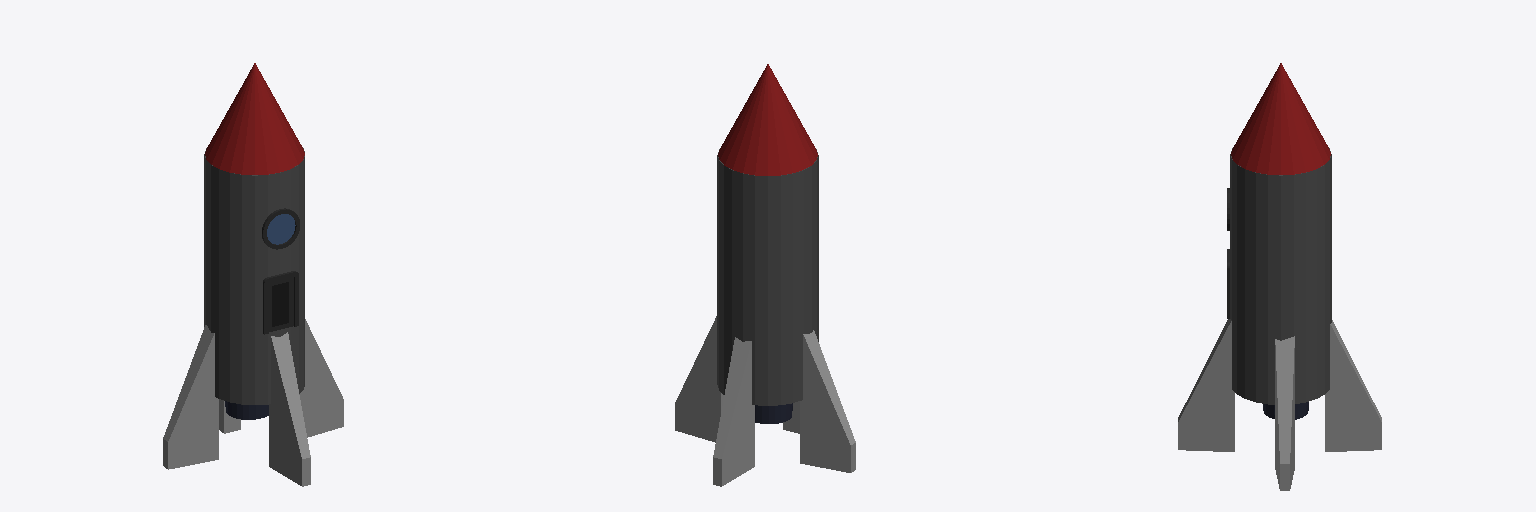
The model's file is Spaceship.obj.
The picture shows the model from 3 angles: view 1: azimuth 30°, elevation 25°; view 2: azimuth 150°, elevation 25°; view 3: azimuth 270°, elevation 25°; orthographic projection.
Parts seen in each view (by area): view 1: cylinder, rudder, cone, window_door, window_round, engine_round; view 2: cylinder, rudder, cone, engine_round; view 3: cylinder, rudder, cone.
Boxes of the visible parts, <box> form: cylinder: <box>204,148,304,404</box>; rudder: <box>163,319,343,486</box>; cone: <box>205,63,304,174</box>; window_door: <box>263,271,298,334</box>; window_round: <box>262,208,299,249</box>; engine_round: <box>225,401,268,419</box>; cylinder: <box>717,149,818,405</box>; rudder: <box>675,316,855,486</box>; cone: <box>718,64,817,175</box>; engine_round: <box>755,403,792,423</box>; cylinder: <box>1230,148,1331,404</box>; rudder: <box>1178,319,1381,490</box>; cone: <box>1231,63,1330,174</box>.
Bounding box in the file's own units: 2.01 × 4.2 × 2.02.